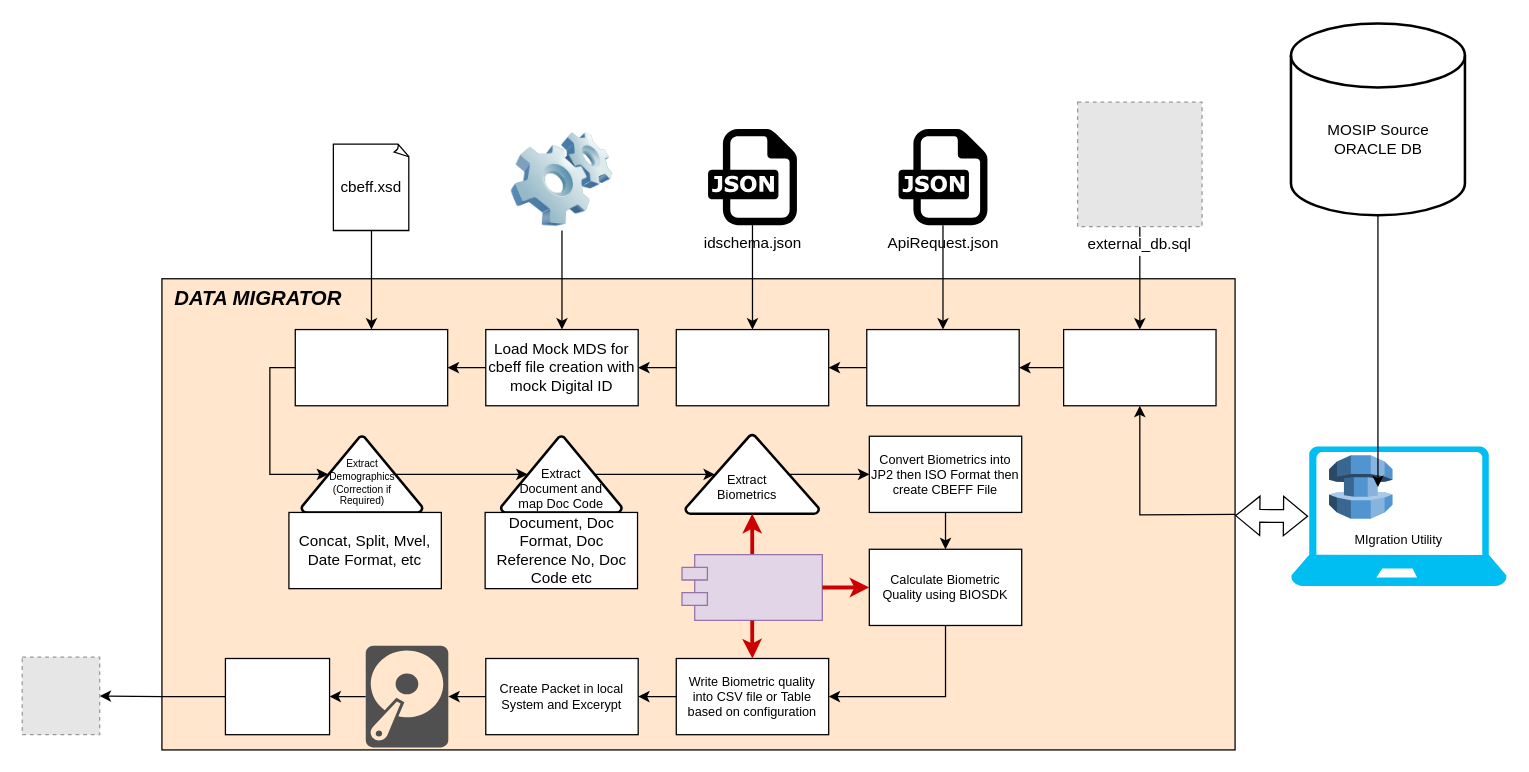
Some shapes in this 1529 by 772 pixel diagram are drawn without their labels. Grey dashed boxes stand in for pictures. The shapes that lost their labels are listed below. From the top down, each one's box as (x1, y1, x2, y2) in pixels, then its label:
(511, 128, 612, 230): MOCK MDS
(294, 328, 448, 406): Load Cbeff.xsd for biometric file template
(675, 328, 829, 406): Validate ApiRequest.json using IDSchema.json (mandatory fields)
(866, 328, 1019, 406): Load ApiRequest.json to Load Source DB Fields & IDSchema attribute mapping
(1062, 328, 1216, 406): Create external DB and insert data which not present as part of MOSIP
(681, 553, 822, 620): data-extractor -ref-impl
(224, 657, 330, 735): Sync & Upload Packet into Regproc
